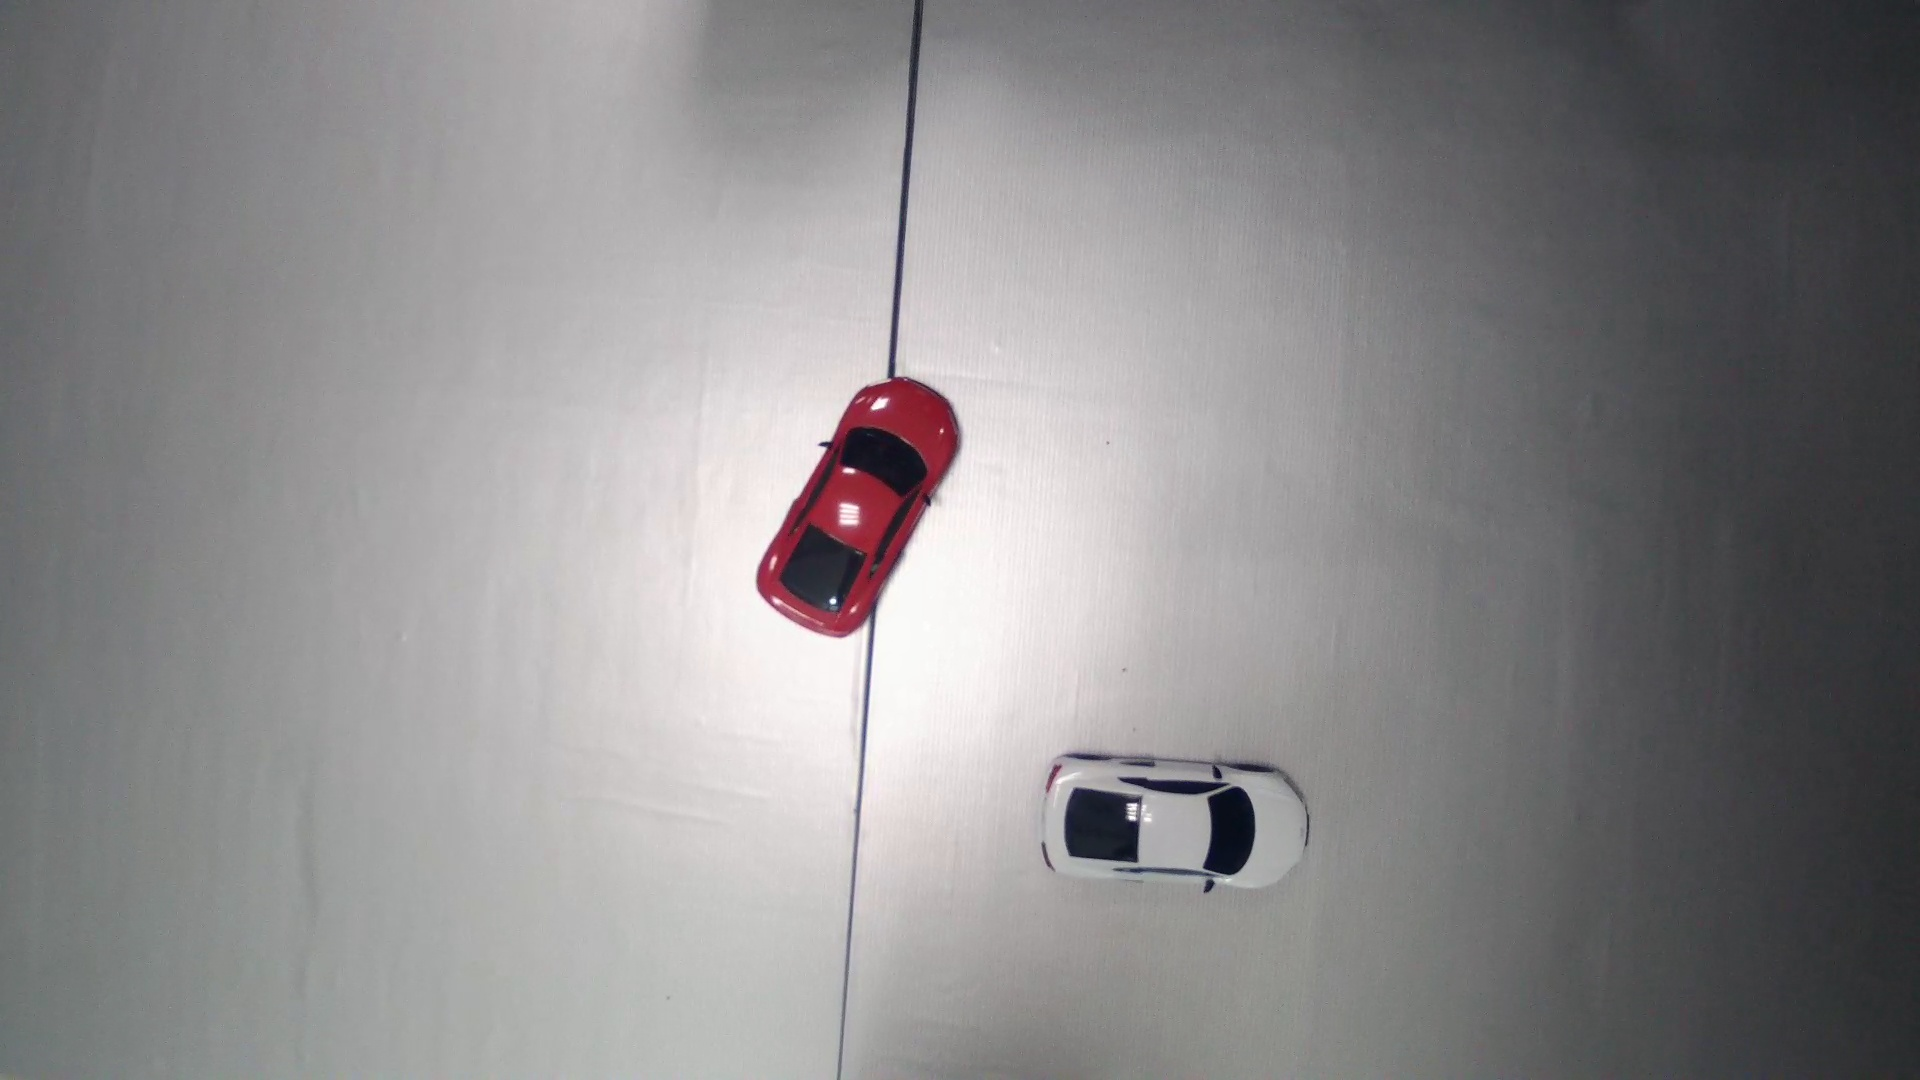remote_car: (756, 375, 963, 640), (1038, 754, 1312, 889)
